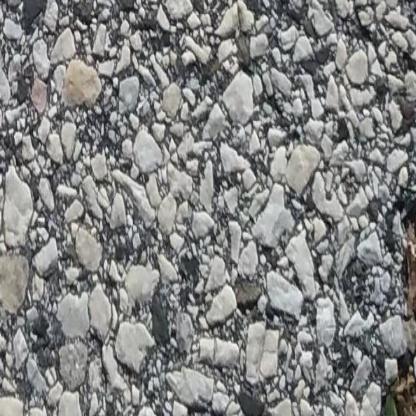Cracks: (378, 161, 416, 416)
